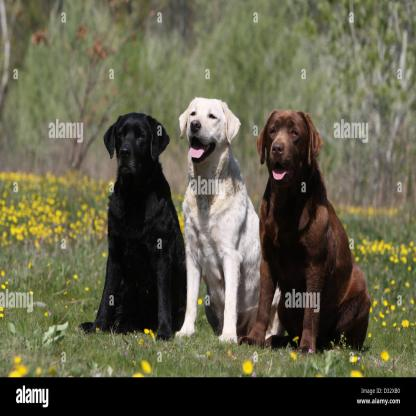Labarador Retriever: (236, 107, 370, 346), (77, 113, 186, 344), (173, 97, 263, 367)
